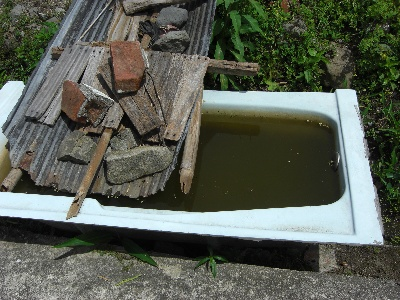tub: (1, 80, 385, 246)
